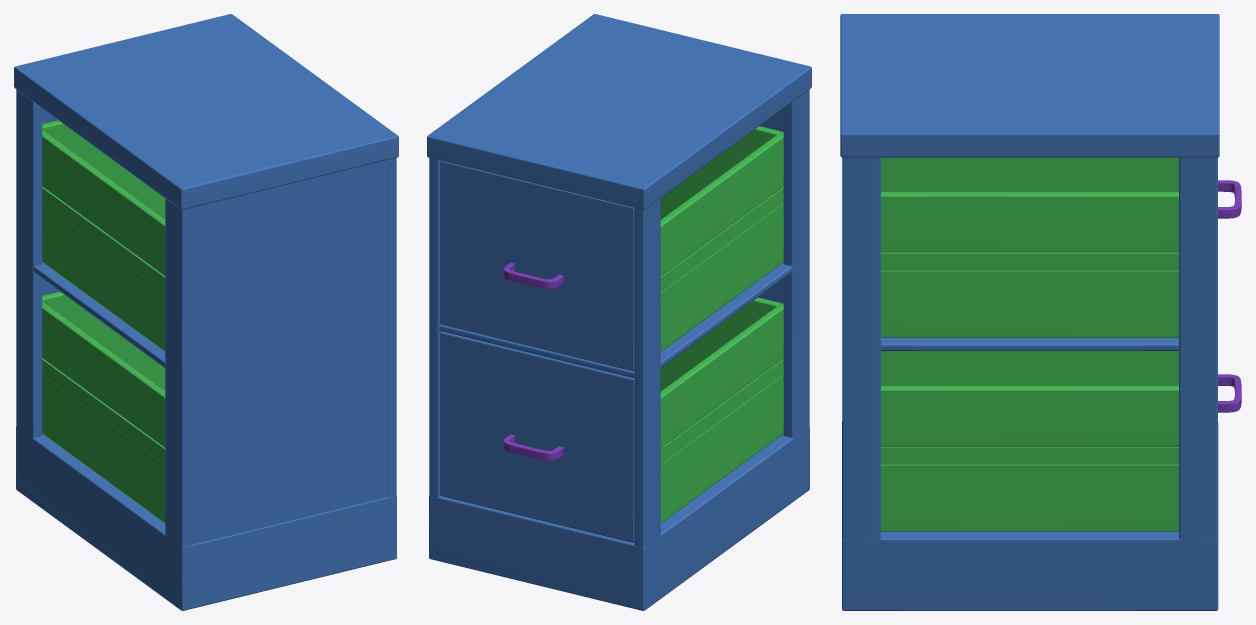
File: Cabinet.fbx
3 renders of one model, left to right at view 1: azimuth 30°, elevation 25°; view 2: azimuth 150°, elevation 25°; view 3: azimuth 270°, elevation 25°, orthographic. The views are drawn at different scales.
Parts seen in each view (by area): view 1: Cabinet, Drawer 02, Drawer 01; view 2: Cabinet, Drawer 02, Drawer 01; view 3: Cabinet, Drawer 02, Drawer 01.
Boxes of the visible parts, x1,y1,x2,y2 form: Cabinet: [14, 14, 398, 610]; Drawer 02: [42, 279, 165, 523]; Drawer 01: [42, 108, 165, 351]; Cabinet: [427, 14, 811, 610]; Drawer 02: [440, 297, 783, 542]; Drawer 01: [440, 126, 783, 371]; Cabinet: [840, 14, 1219, 610]; Drawer 02: [881, 351, 1241, 531]; Drawer 01: [881, 157, 1241, 337].
Size of the model in its own units: 38.59 by 71.56 by 54.37.
